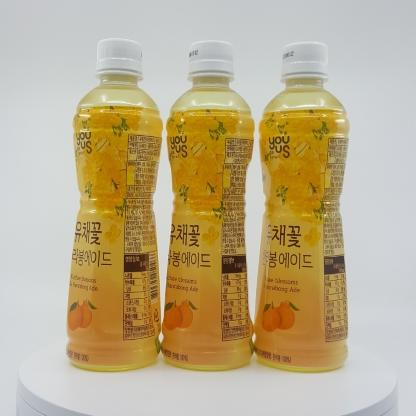-------------410ML: (65, 38, 163, 372), (253, 41, 350, 373), (161, 40, 254, 371)
